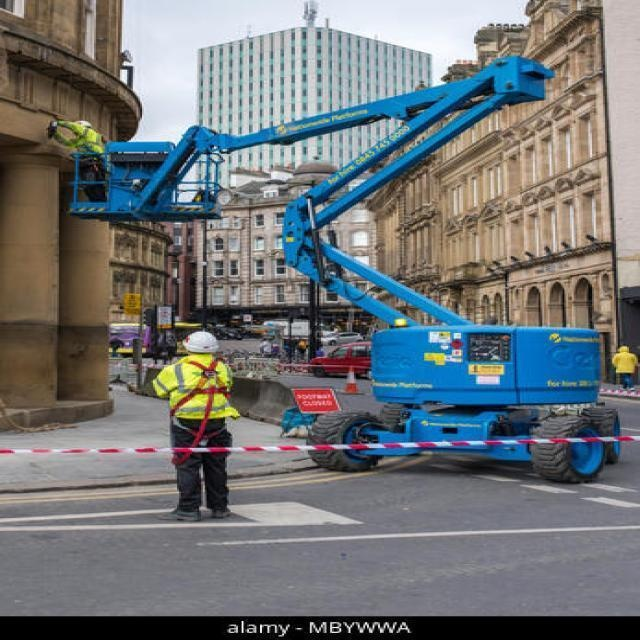Arnes_seguridad: (166, 359, 227, 463)
